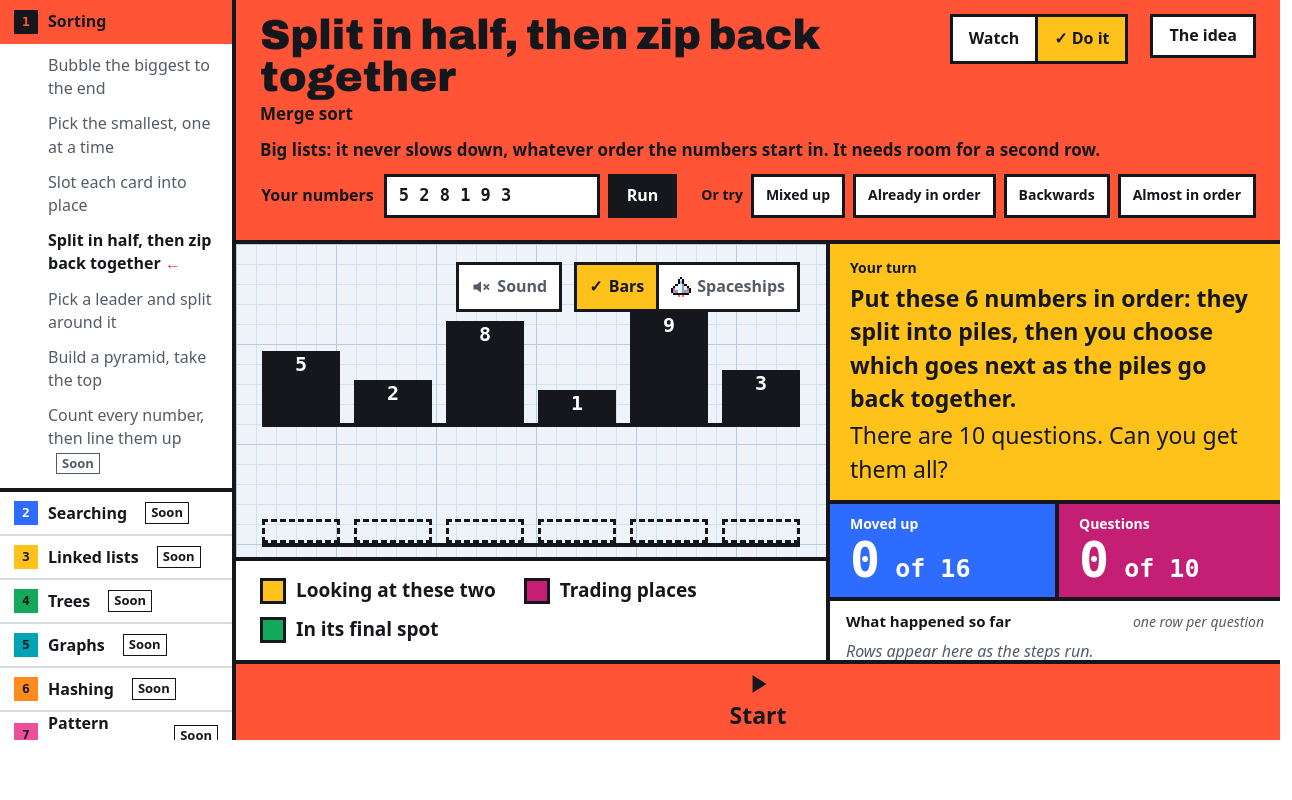
Test: merge sort: Do it › Explorer: no question at the splits; Left one (L) and Right one (R), alike
Click the button "Start" at (758, 702), box [236,664,1280,740]
Wait 8000 ms
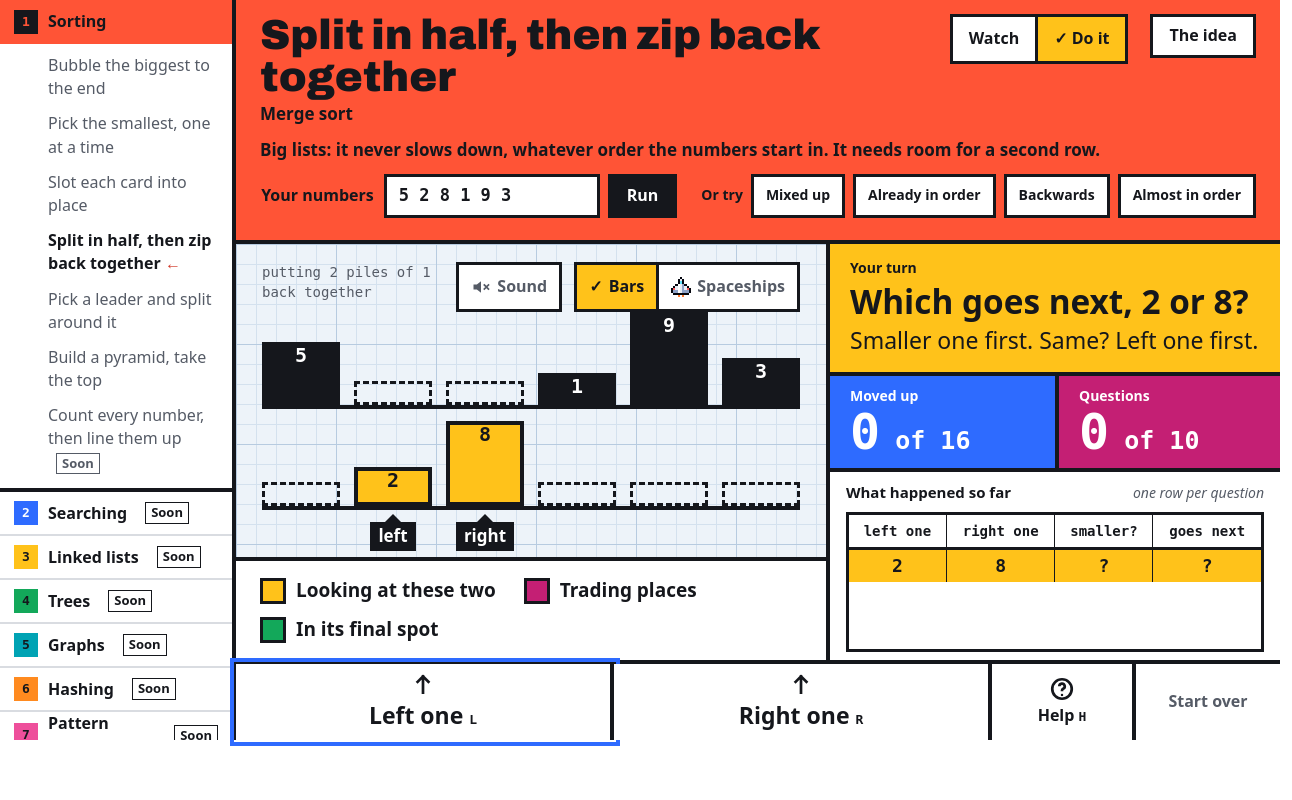
Now the text with class "do-it-question" reads "Which goes next, 2 or 8?", box [850,278,1249,324]
Now the element with class "do-it-panel" shows "Smaller one first. Same? Left one first.", box [850,324,1258,356]
Type keys "l"
Wait 6000 ms
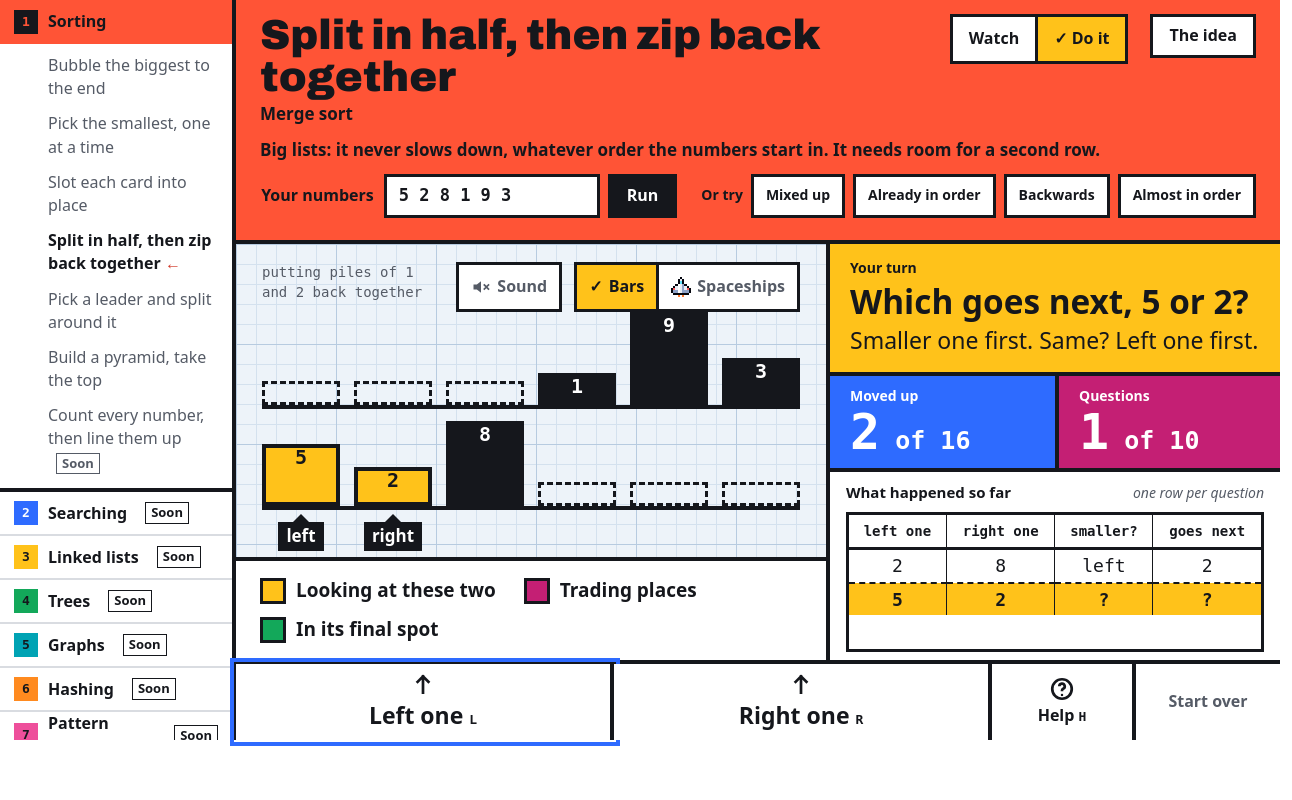
Now the text with class "do-it-question" reads "Which goes next, 5 or 2?", box [850,278,1249,324]
